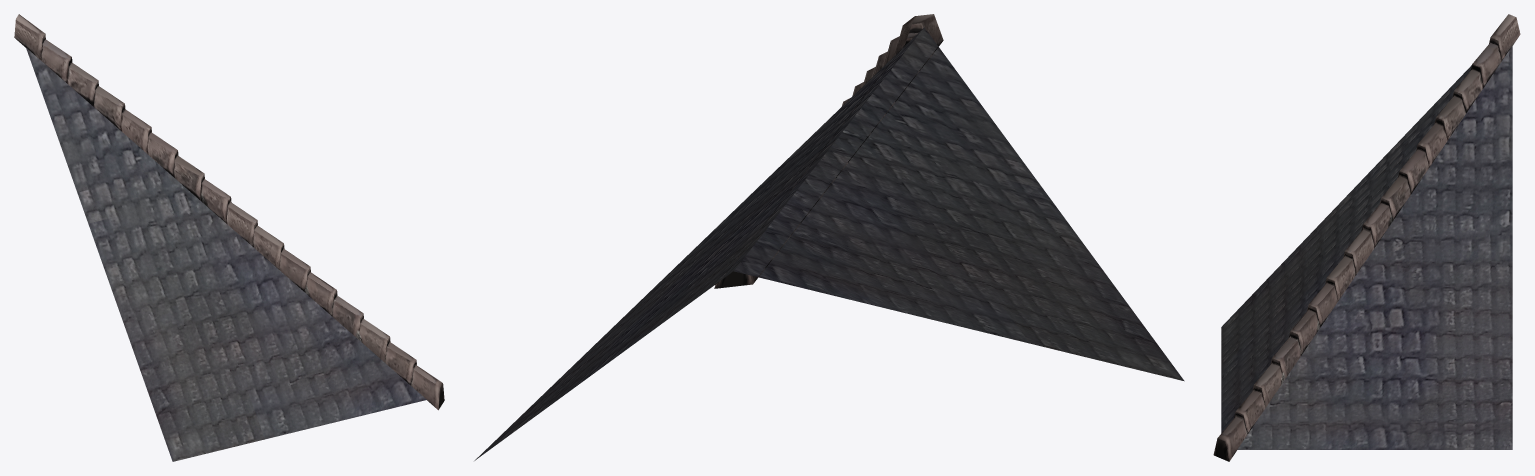
The model's file is RoofCorner2x3-1A.fbx.
The picture shows the model from 3 angles, left to right: view 1: azimuth 30°, elevation 25°; view 2: azimuth 150°, elevation 25°; view 3: azimuth 270°, elevation 25°; orthographic projection. The views are drawn at different scales.
Visible parts, largest first — view 1: RoofCorner2x3-1A; view 2: RoofCorner2x3-1A; view 3: RoofCorner2x3-1A.
Part boxes in pixels (x1=…): RoofCorner2x3-1A: x1=14, y1=14, x2=444, y2=461; RoofCorner2x3-1A: x1=474, y1=14, x2=1184, y2=460; RoofCorner2x3-1A: x1=1213, y1=14, x2=1520, y2=461.
Bounding box in the file's own units: 274 × 315 × 274.
